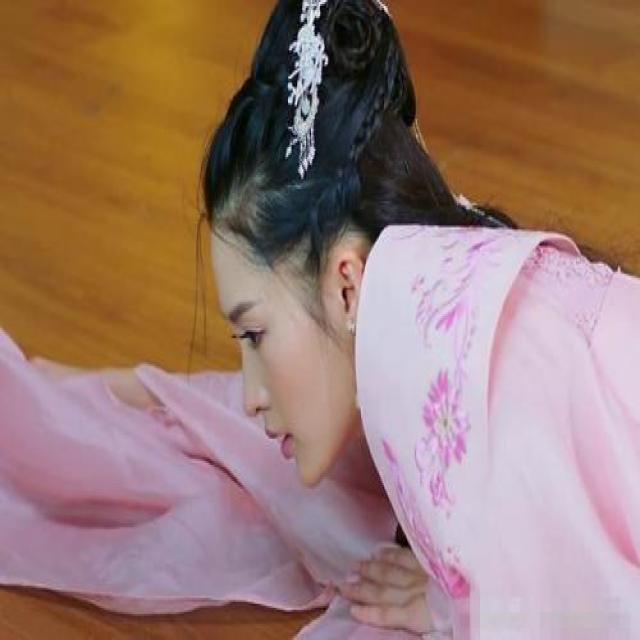Fall: (0, 0, 635, 640)
